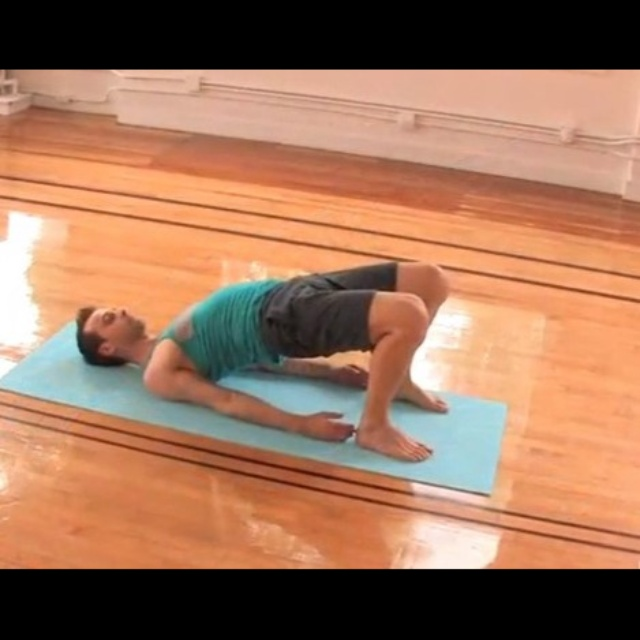Bridge_Pose: (62, 258, 453, 467)
